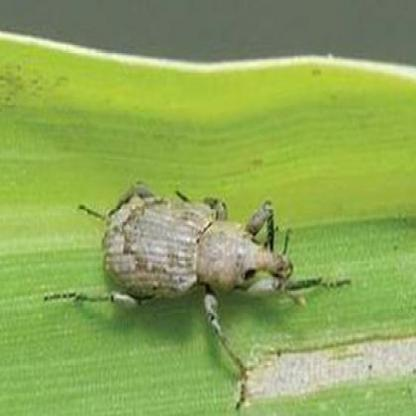rice-bug: (66, 163, 296, 399)
